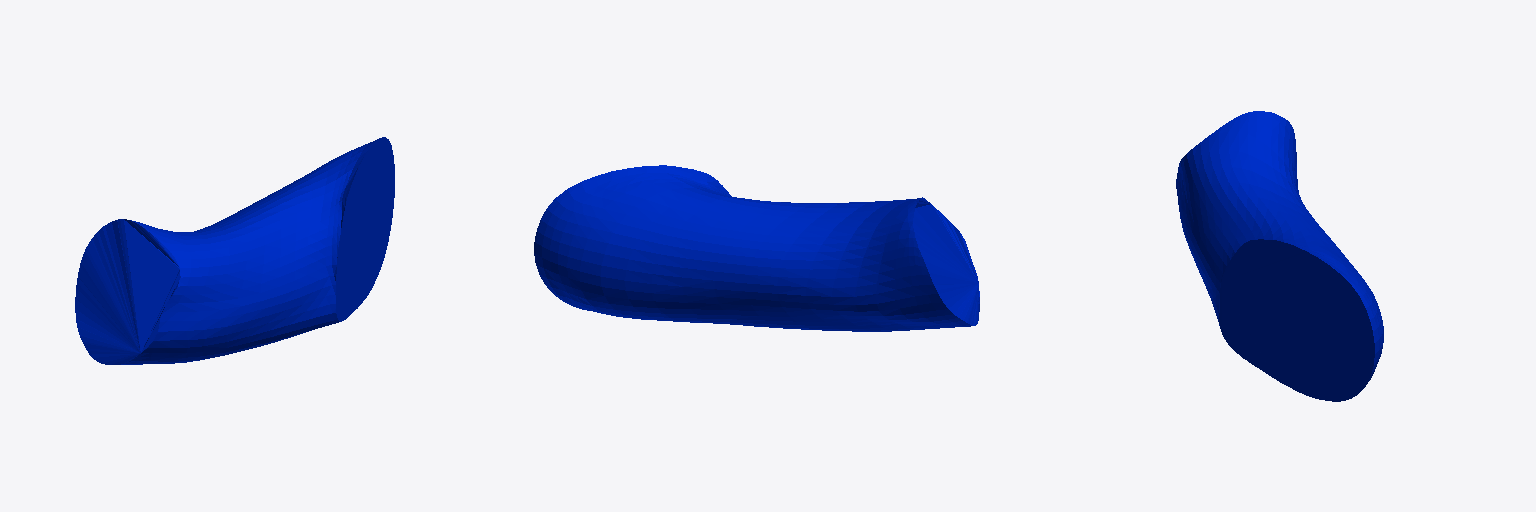
The model's file is upperarm_r.obj.
The picture shows the model from 3 angles: view 1: azimuth 30°, elevation 25°; view 2: azimuth 150°, elevation 25°; view 3: azimuth 270°, elevation 25°; orthographic projection.
Parts seen in each view (by area): view 1: upperarm_r.001_torso.002; view 2: upperarm_r.001_torso.002; view 3: upperarm_r.001_torso.002.
Boxes of the visible parts, box(x1,y1,x2,y2) form: upperarm_r.001_torso.002: box(75, 137, 394, 364); upperarm_r.001_torso.002: box(534, 165, 979, 331); upperarm_r.001_torso.002: box(1176, 111, 1383, 401).
Bounding box in the file's own units: 0.3233 × 0.129 × 0.1564.